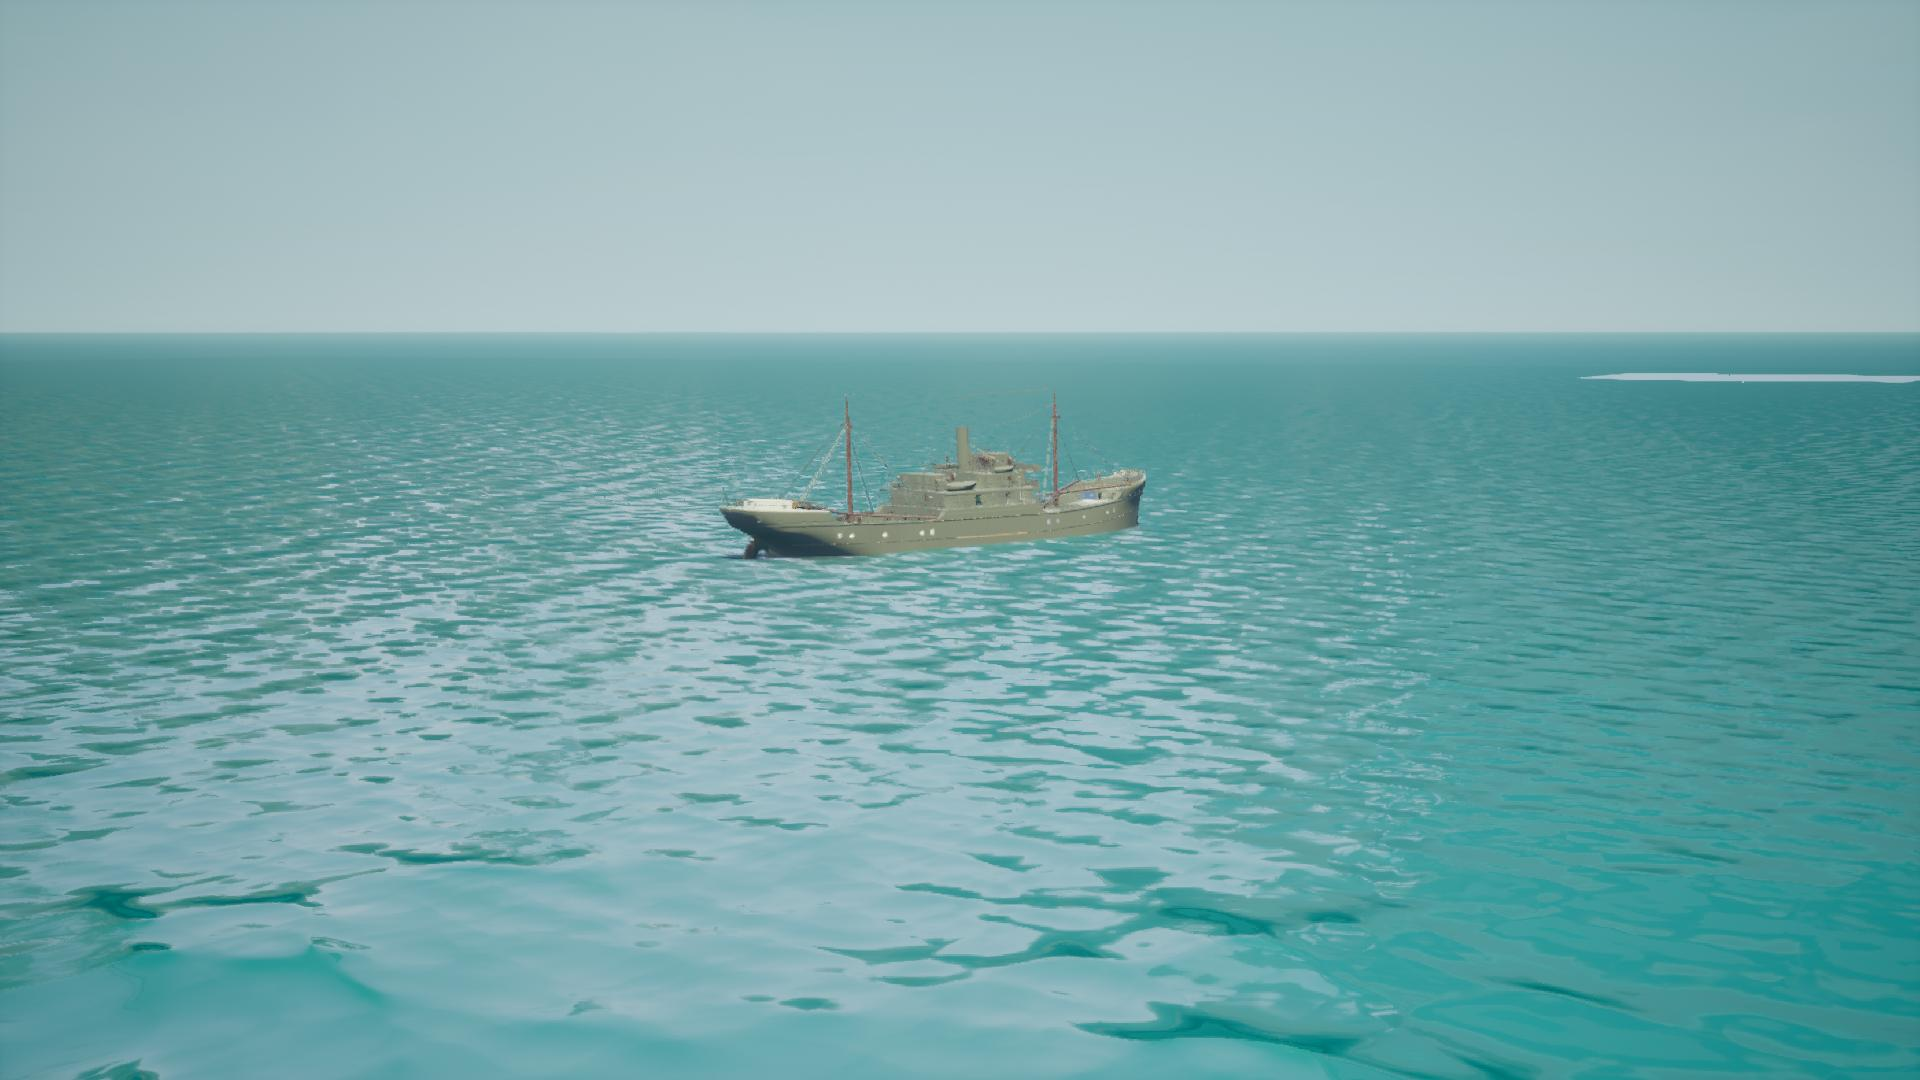Fishing Boat: (723, 393, 1147, 562)
